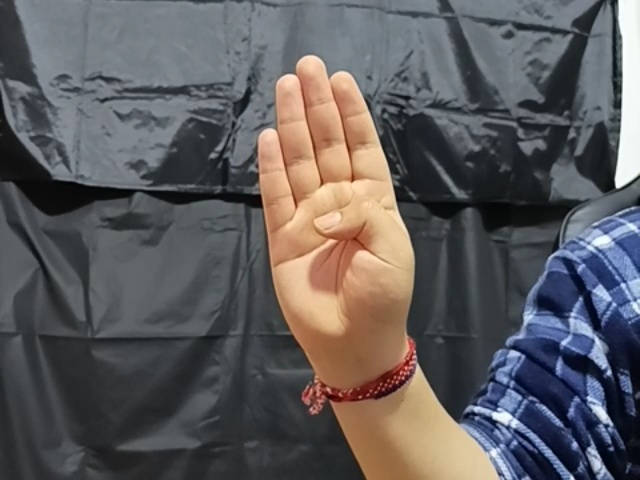B: (249, 49, 418, 355)
